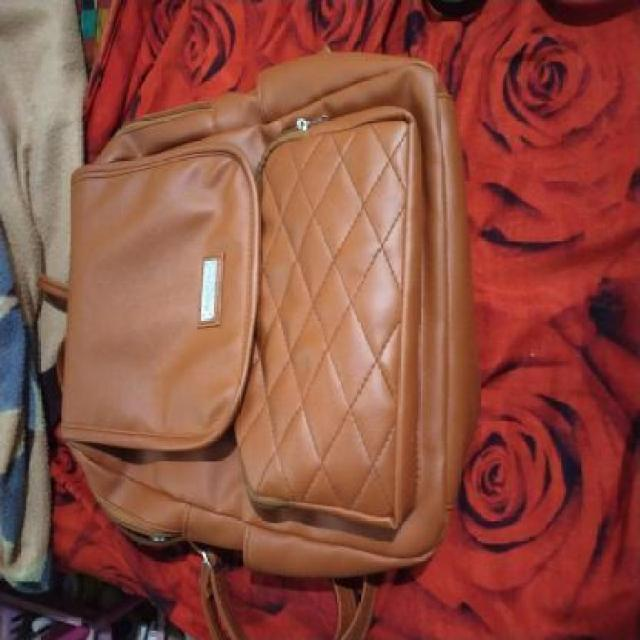backpack: (51, 42, 486, 590)
